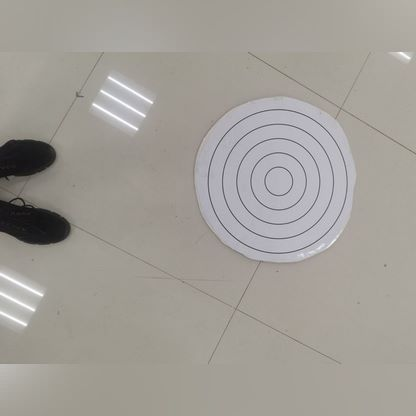circle: (193, 100, 364, 259)
